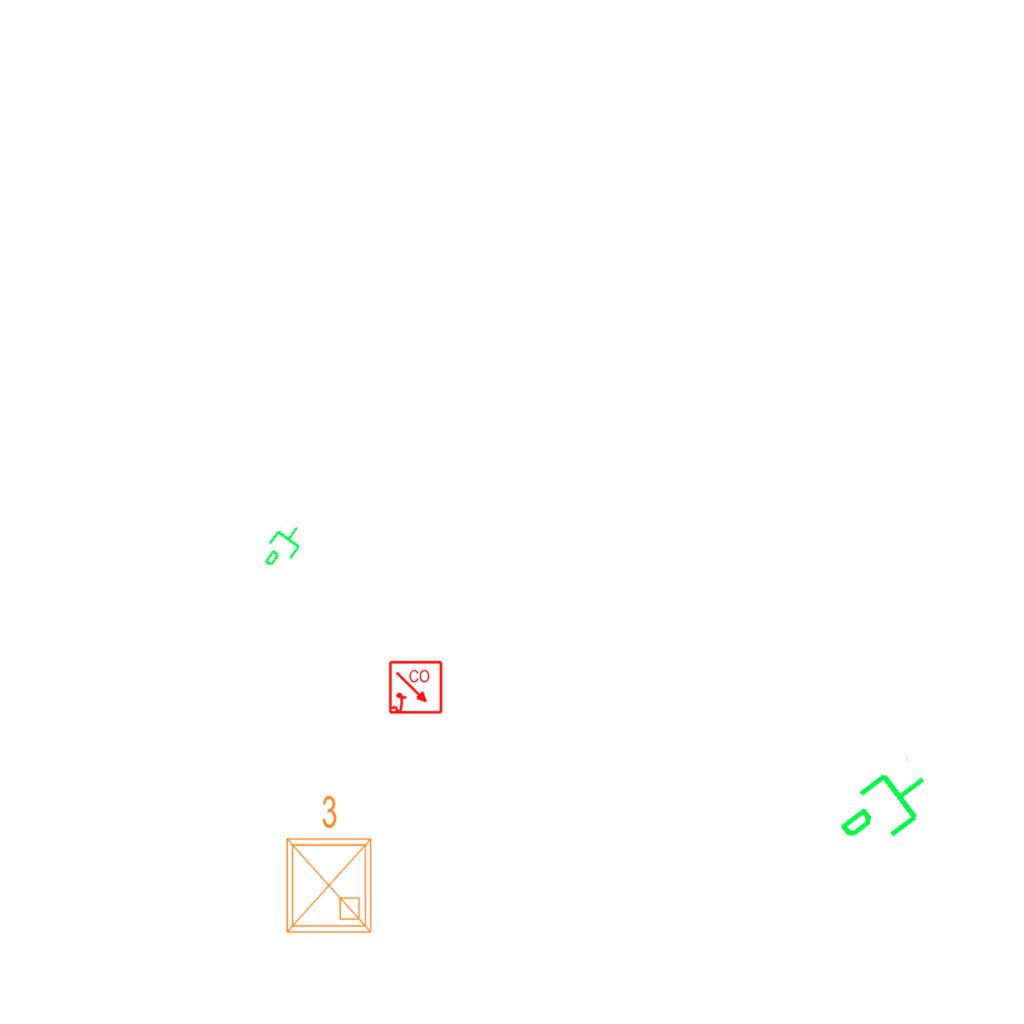Datenanschluss_einfach: (825, 751, 948, 867), (255, 516, 313, 578)
Einbaudownlights_LED_Konferenzraeume: (275, 790, 379, 940)
ROA_Rauchmelder_optisch_mit_Signalgeber_(Sockelsirene): (388, 660, 444, 716)
